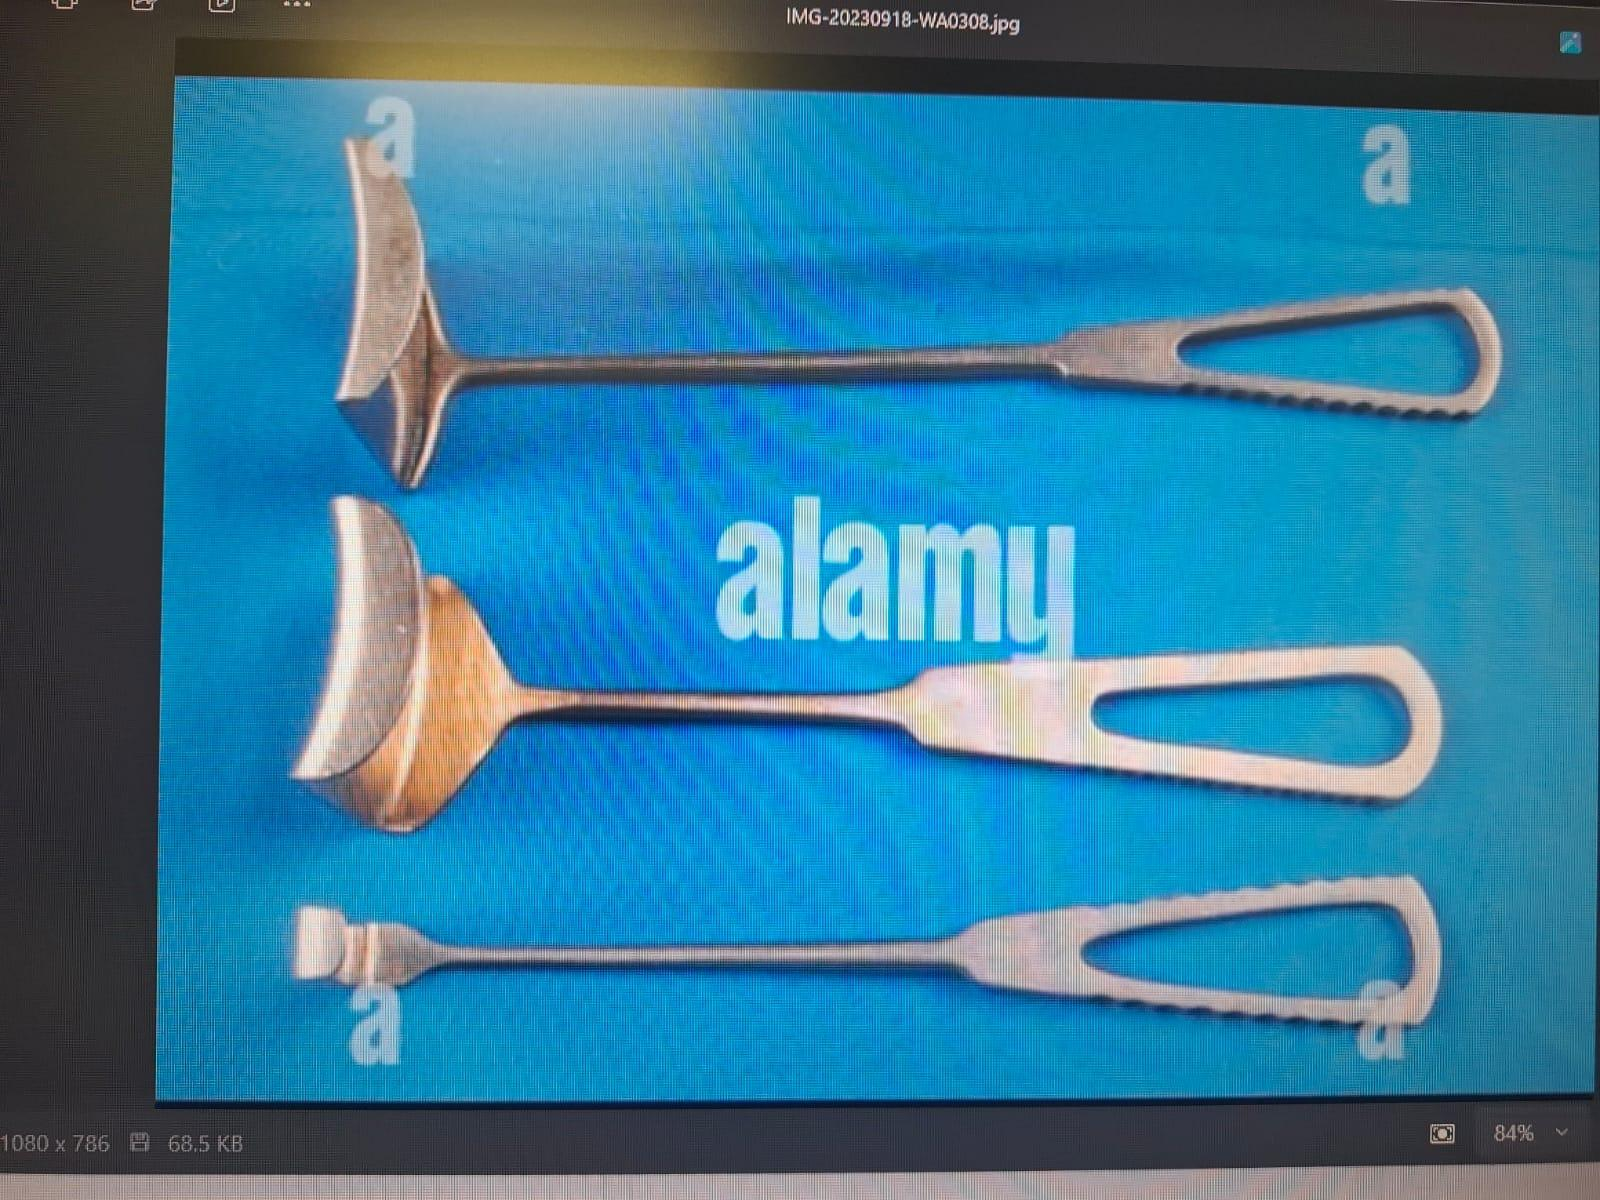Morris Retractor: (320, 122, 1518, 498), (280, 471, 1470, 845)
